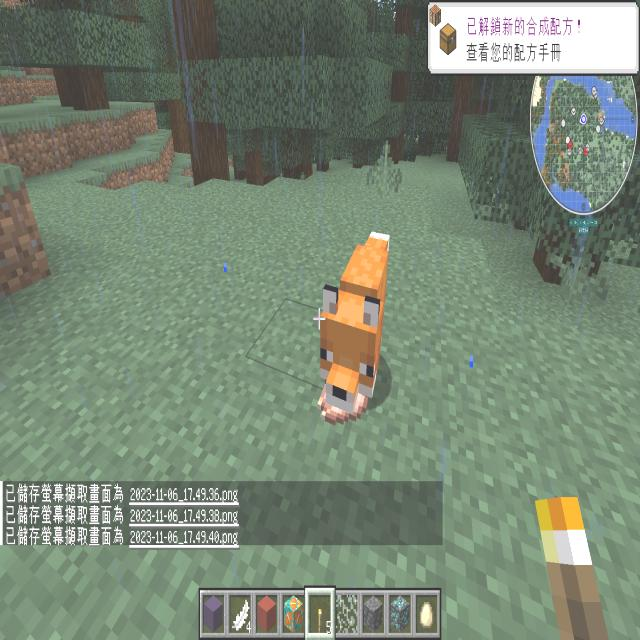Fox: (304, 194, 404, 440)
